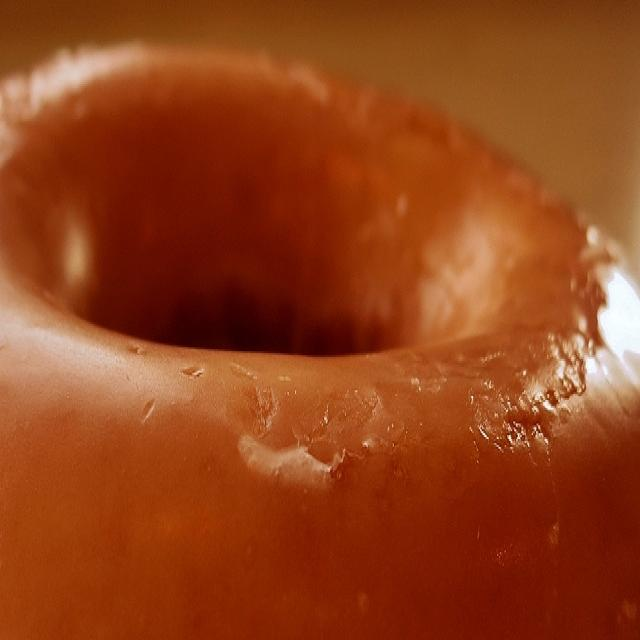炸货点心: (6, 24, 622, 630)
